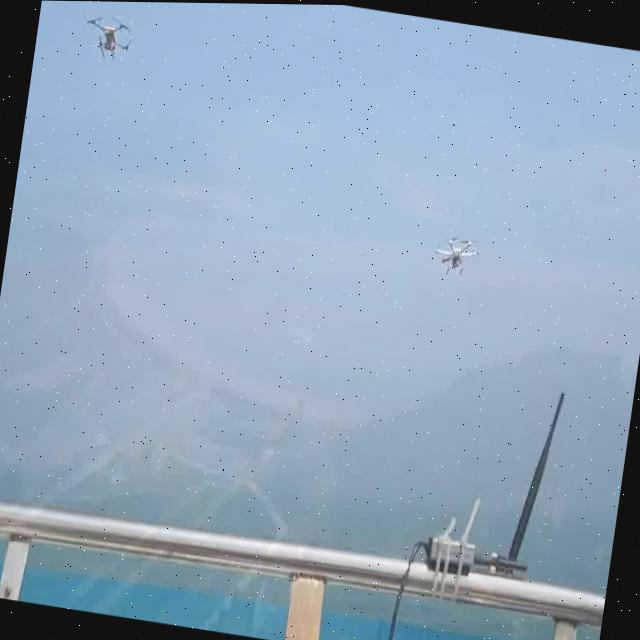drone: (82, 8, 136, 65), (430, 226, 482, 277)
